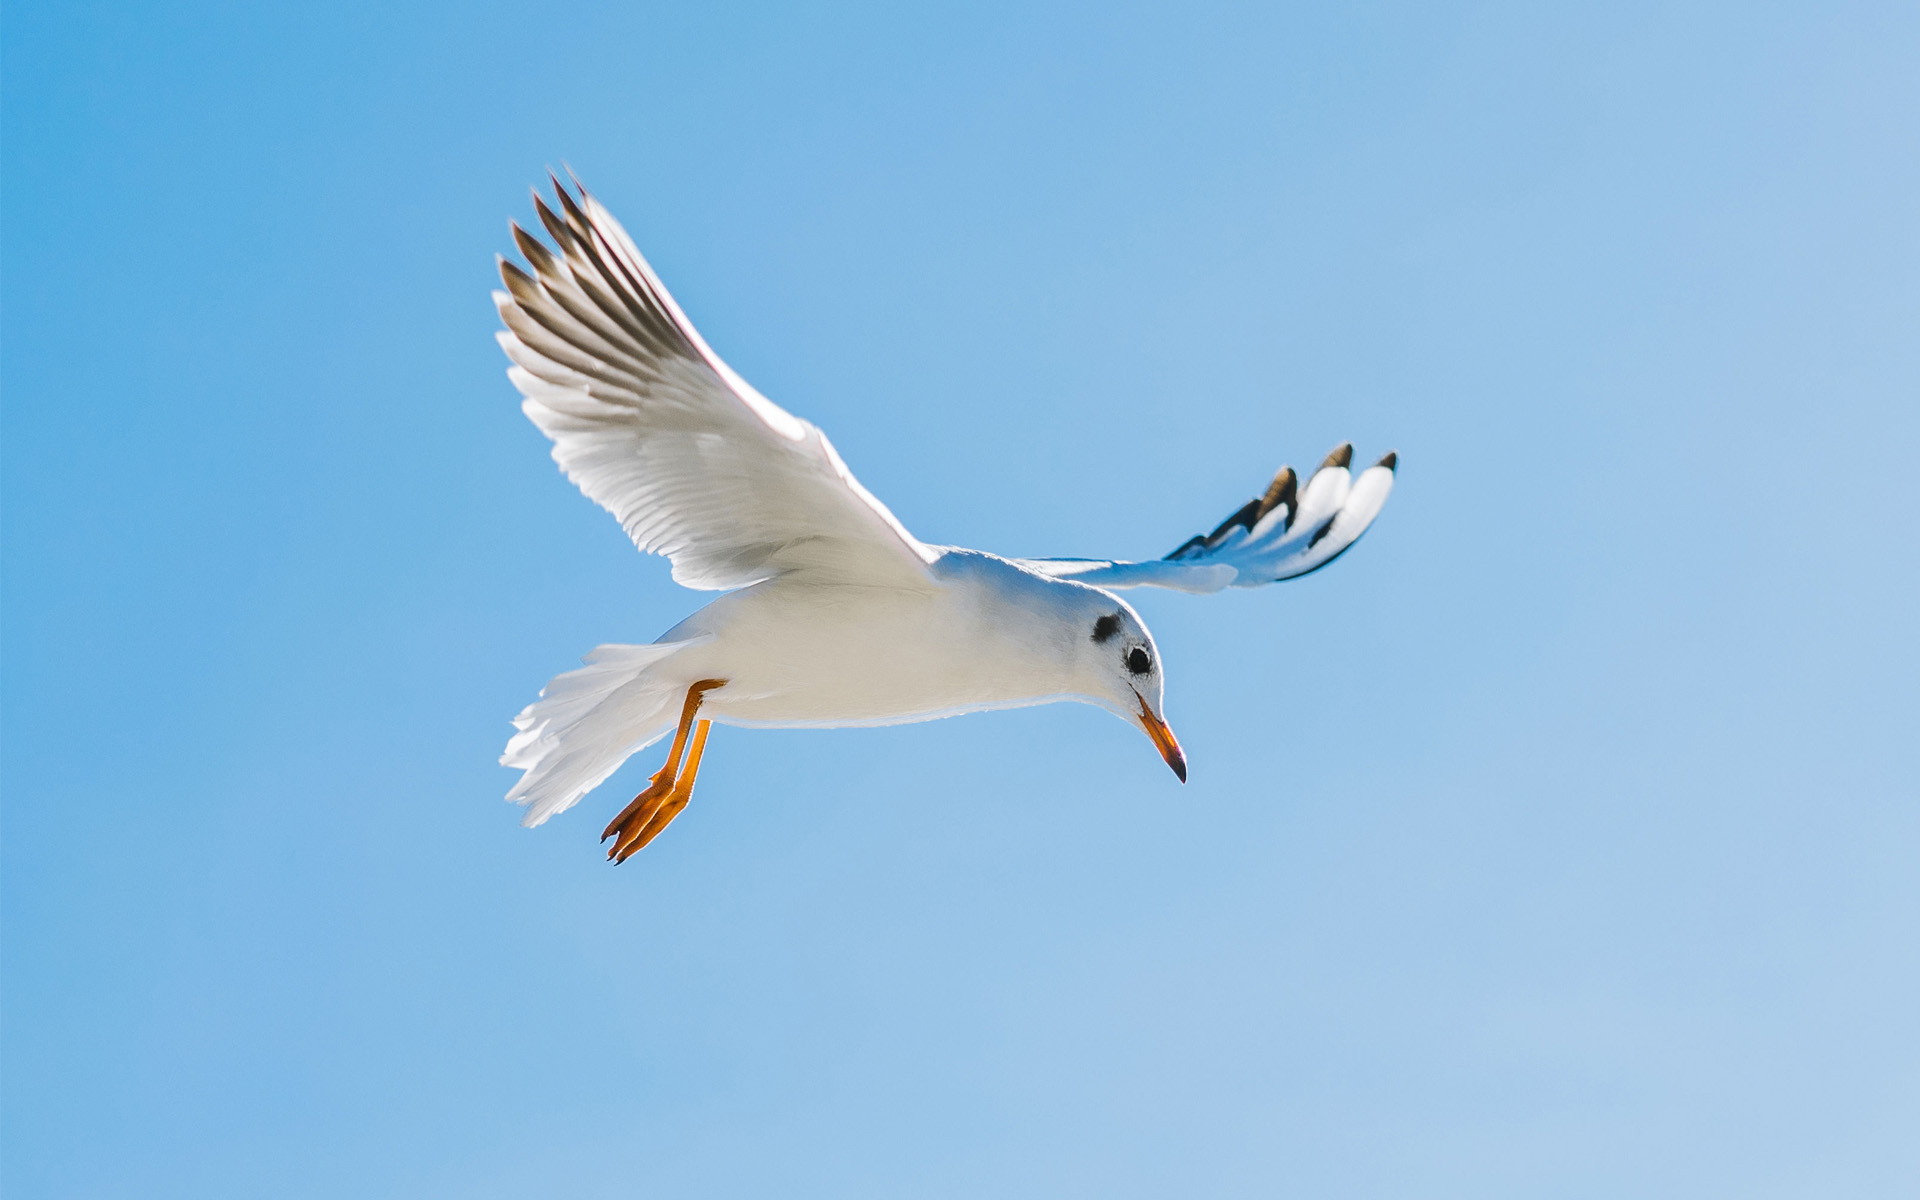bird: (480, 155, 1402, 876)
